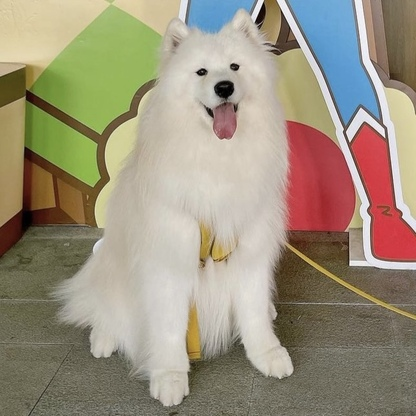samoyed: (49, 4, 302, 416)
